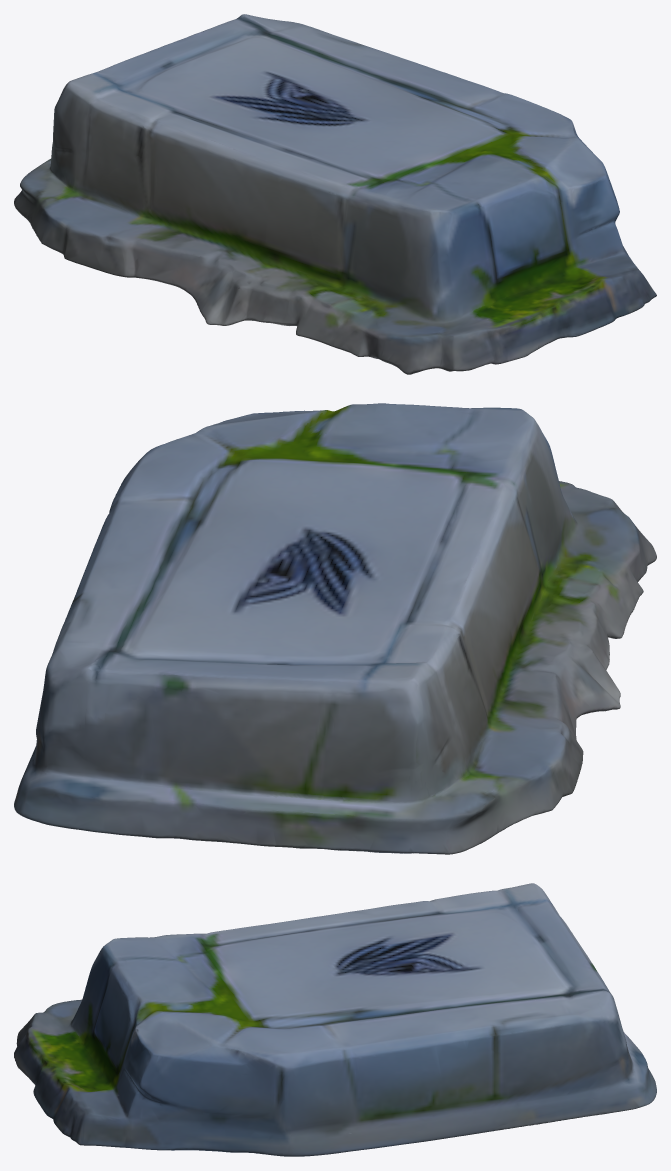
File: lapida.glb
3 renders of one model, top to bottom at view 1: azimuth 30°, elevation 25°; view 2: azimuth 150°, elevation 25°; view 3: azimuth 270°, elevation 25°, orthographic. The views are drawn at different scales.
Visible parts, largest first — view 1: material.002; view 2: material.002; view 3: material.002.
Boxes of the visible parts, x1,y1,x2,y2 form: material.002: (14, 14, 656, 374); material.002: (14, 403, 656, 854); material.002: (14, 883, 656, 1156).
Bounding box in the file's own units: 0.2853 × 0.0848 × 0.3938.
1 material, 1 textured.
